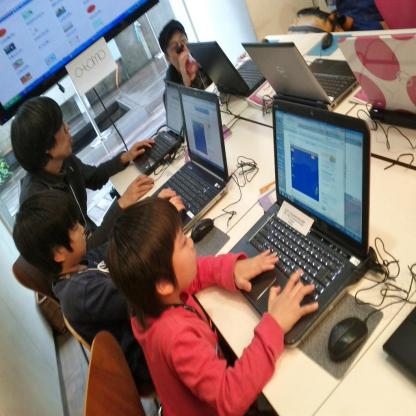board: (226, 98, 371, 348), (149, 85, 230, 235), (329, 28, 416, 131), (242, 42, 360, 112), (132, 79, 183, 176), (185, 43, 266, 97)
